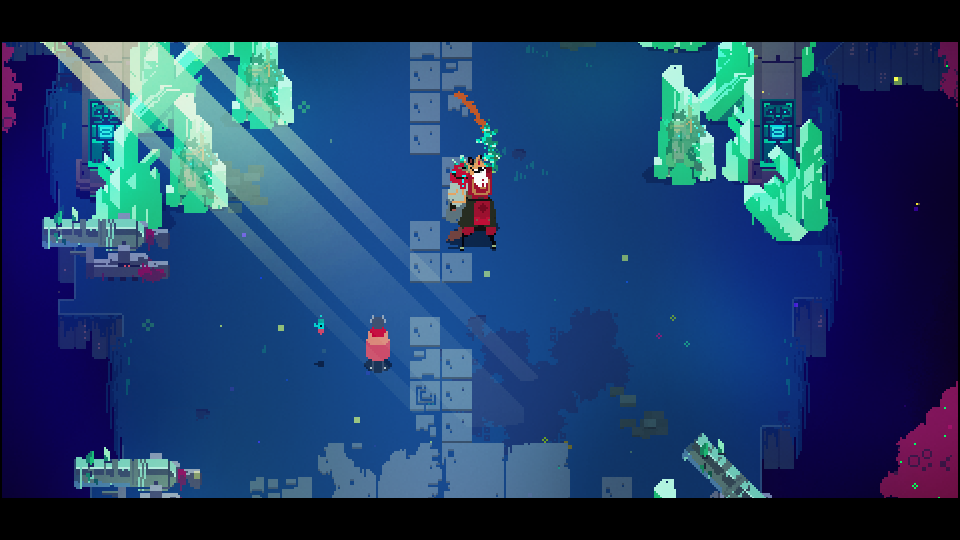hanged_man: (446, 124, 505, 249)
player: (365, 314, 390, 372)
